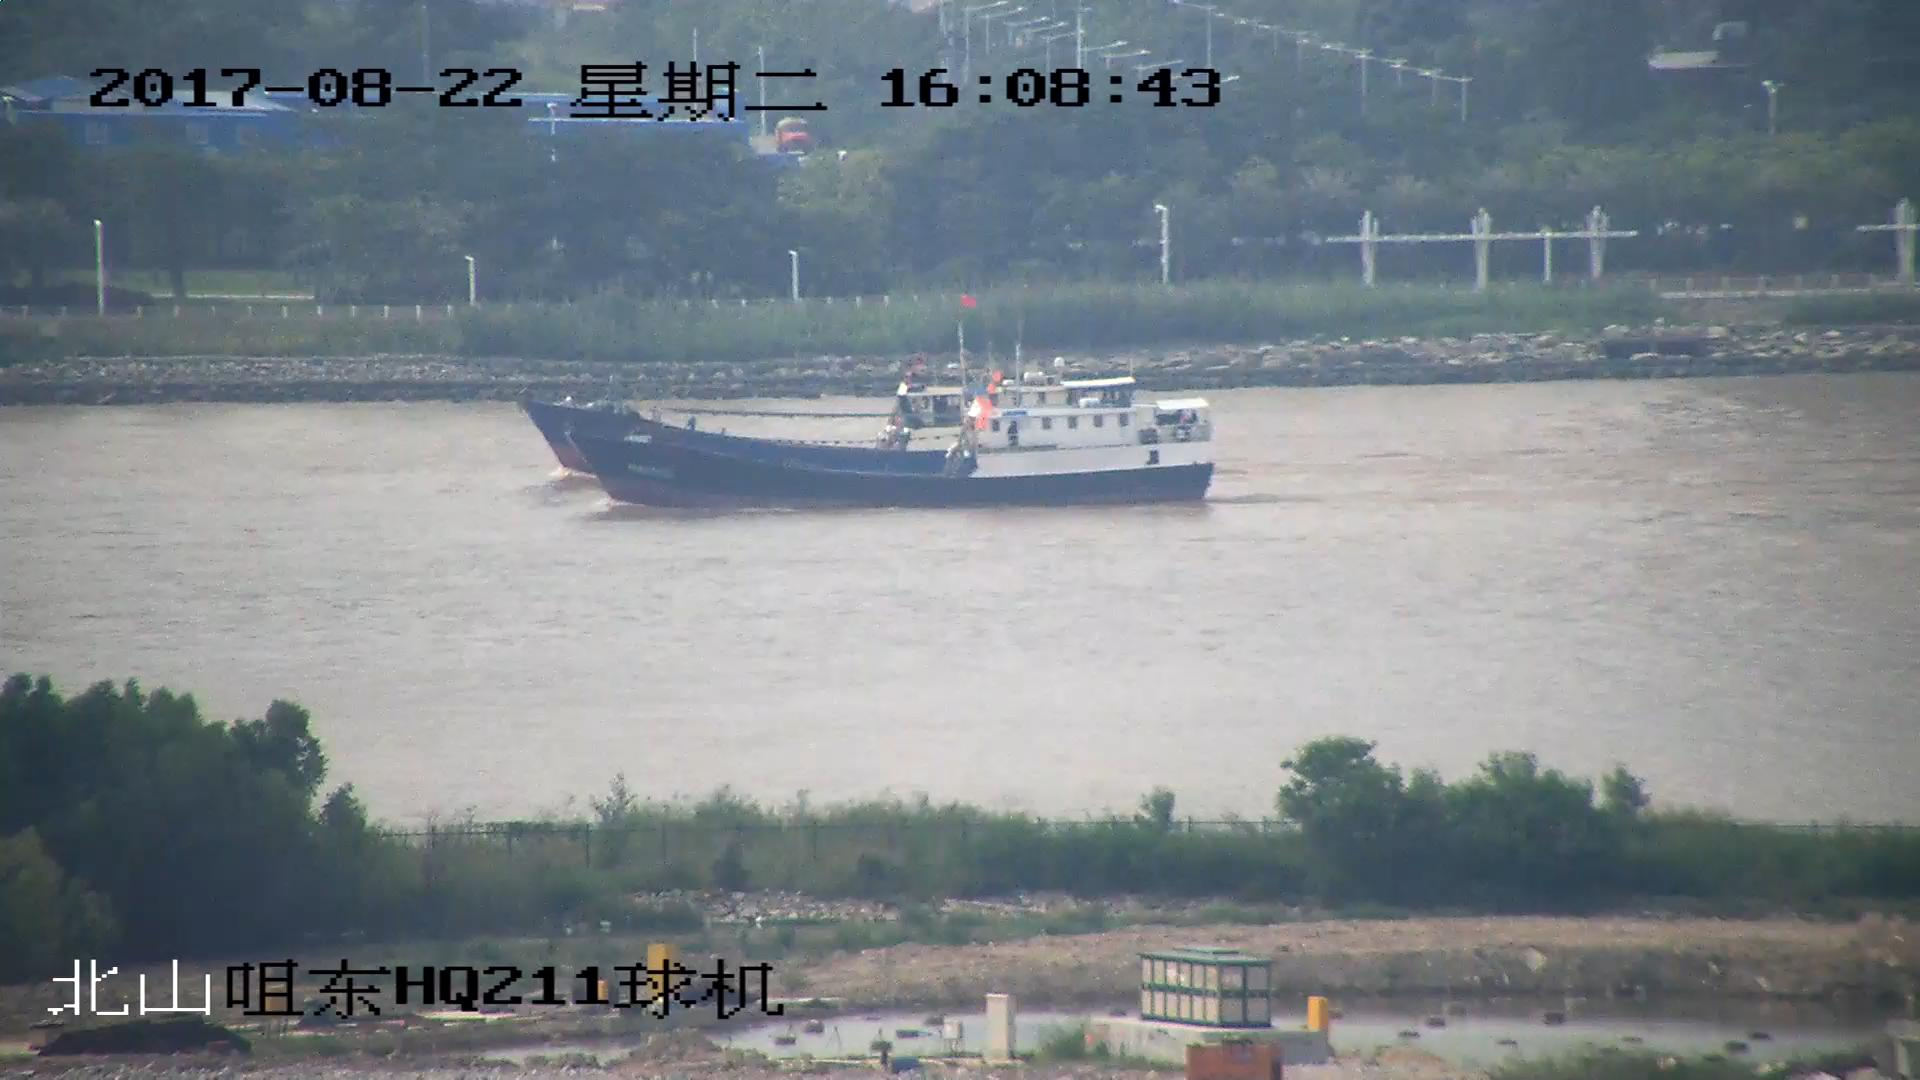fishing boat: (525, 297, 1140, 482), (570, 373, 1212, 510)
